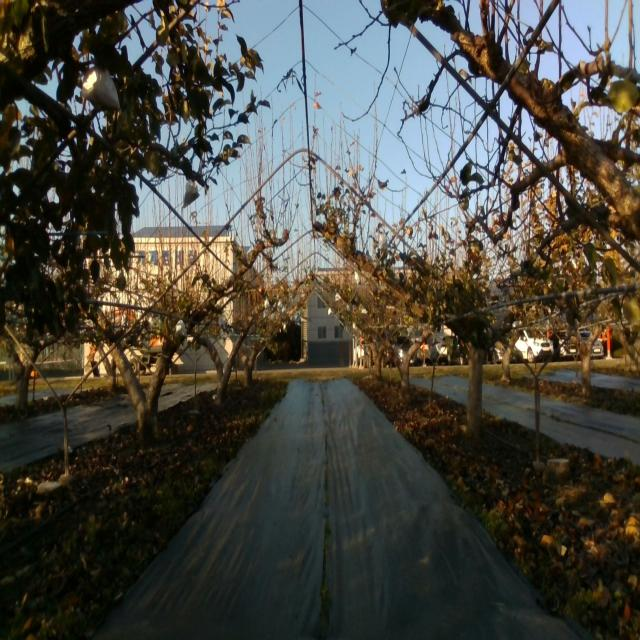pearbags: (81, 65, 122, 110), (184, 182, 200, 210), (175, 320, 187, 338), (378, 232, 388, 249)
